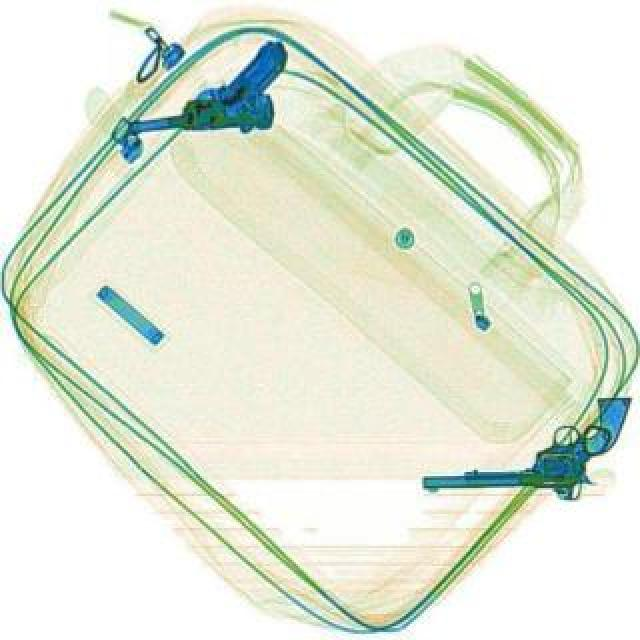gun: (420, 394, 632, 486), (116, 36, 296, 144)
